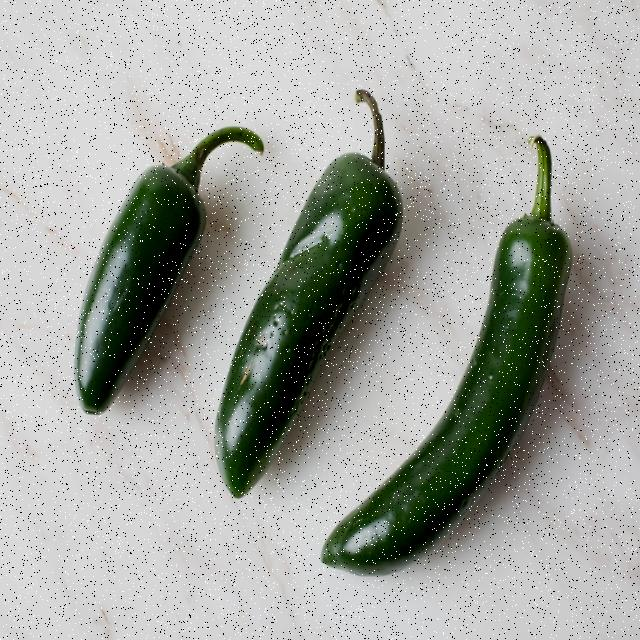Chili Pepper: (322, 135, 573, 575), (215, 90, 403, 498), (74, 127, 264, 414)
